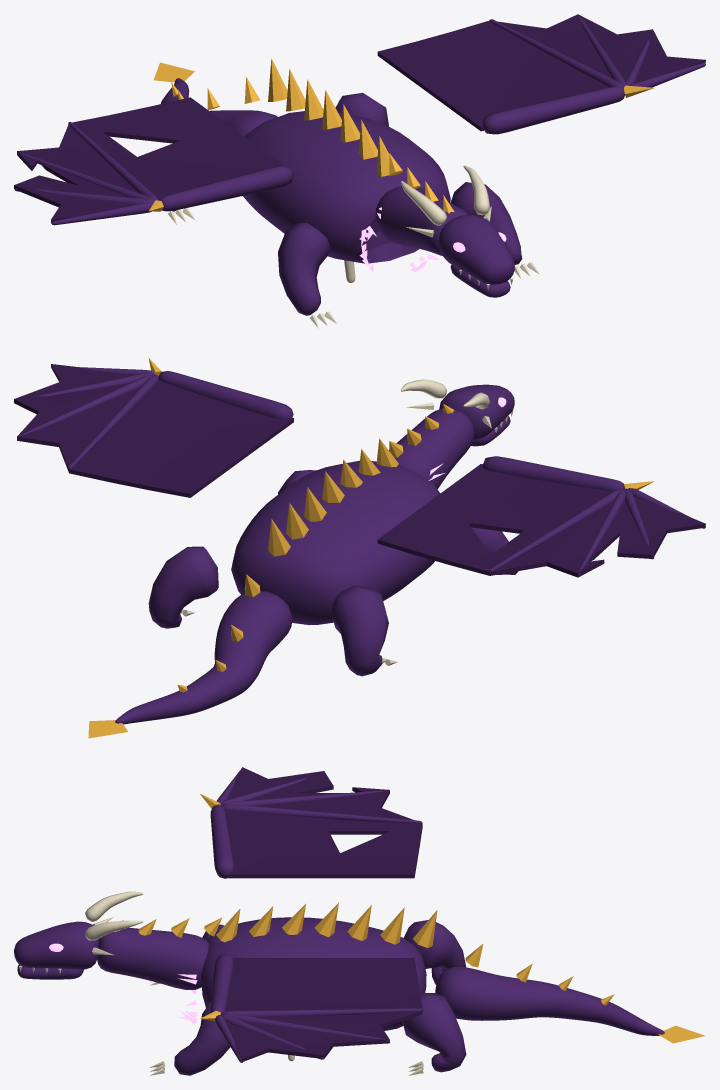
Rendered from HollowDragon.fbx.
The picture shows the model from 3 angles, top to bottom: view 1: azimuth 30°, elevation 25°; view 2: azimuth 150°, elevation 25°; view 3: azimuth 270°, elevation 25°; orthographic projection. The views are drawn at different scales.
Parts seen in each view (by area): view 1: HD_Body_Scales, HD_WingL_Membrane, HD_WingR_Membrane, HD_WingR_Scales, HD_WingL_Scales, HD_Head_Scales, HD_Body_Gold, HD_Neck_Scales, HD_Head_Bone, HD_Tail_Scales, HD_Tail_Gold, HD_Neck_Gold (+2 smaller); view 2: HD_Body_Scales, HD_WingL_Membrane, HD_WingR_Membrane, HD_Tail_Scales, HD_WingL_Scales, HD_WingR_Scales, HD_Neck_Scales, HD_Body_Gold, HD_Head_Scales, HD_Tail_Gold, HD_Head_Bone, HD_Neck_Gold; view 3: HD_WingR_Membrane, HD_WingL_Membrane, HD_Body_Scales, HD_Tail_Scales, HD_Neck_Scales, HD_WingR_Scales, HD_WingL_Scales, HD_Head_Scales, HD_Body_Gold, HD_Head_Bone, HD_Tail_Gold, HD_Neck_Gold.
Part boxes in pixels (x1,y1,x2,y2): HD_Body_Scales: (172, 92, 522, 315); HD_WingL_Membrane: (377, 14, 705, 131); HD_WingR_Membrane: (14, 97, 293, 223); HD_WingR_Scales: (14, 122, 293, 225); HD_WingL_Scales: (482, 16, 705, 134); HD_Head_Scales: (438, 215, 514, 297); HD_Body_Gold: (268, 58, 389, 176); HD_Neck_Scales: (375, 186, 467, 255); HD_Head_Bone: (401, 165, 513, 290); HD_Tail_Scales: (161, 78, 277, 136); HD_Tail_Gold: (153, 62, 259, 110); HD_Neck_Gold: (389, 153, 454, 213); HD_Body_Scales: (148, 460, 518, 676); HD_WingL_Membrane: (14, 364, 293, 497); HD_WingR_Membrane: (377, 464, 705, 577); HD_Tail_Scales: (115, 591, 292, 724); HD_WingL_Scales: (20, 367, 293, 468); HD_WingR_Scales: (482, 456, 705, 575); HD_Neck_Scales: (389, 408, 474, 488); HD_Body_Gold: (268, 438, 398, 556); HD_Head_Scales: (439, 384, 514, 446); HD_Tail_Gold: (88, 574, 260, 738); HD_Head_Bone: (400, 379, 513, 432); HD_Neck_Gold: (389, 404, 454, 457); HD_WingR_Membrane: (225, 767, 422, 878); HD_WingL_Membrane: (226, 958, 422, 1061); HD_Body_Scales: (174, 917, 466, 1075); HD_Tail_Scales: (435, 967, 664, 1035); HD_Neck_Scales: (97, 927, 208, 989); HD_WingR_Scales: (210, 771, 422, 878); HD_WingL_Scales: (210, 953, 422, 1062); HD_Head_Scales: (14, 921, 98, 979); HD_Body_Gold: (216, 902, 437, 947); HD_Head_Bone: (18, 891, 143, 973); HD_Tail_Gold: (465, 944, 705, 1043); HD_Neck_Gold: (114, 917, 222, 937).
Bounding box in the file's own units: 8404 × 2135 × 8429.
